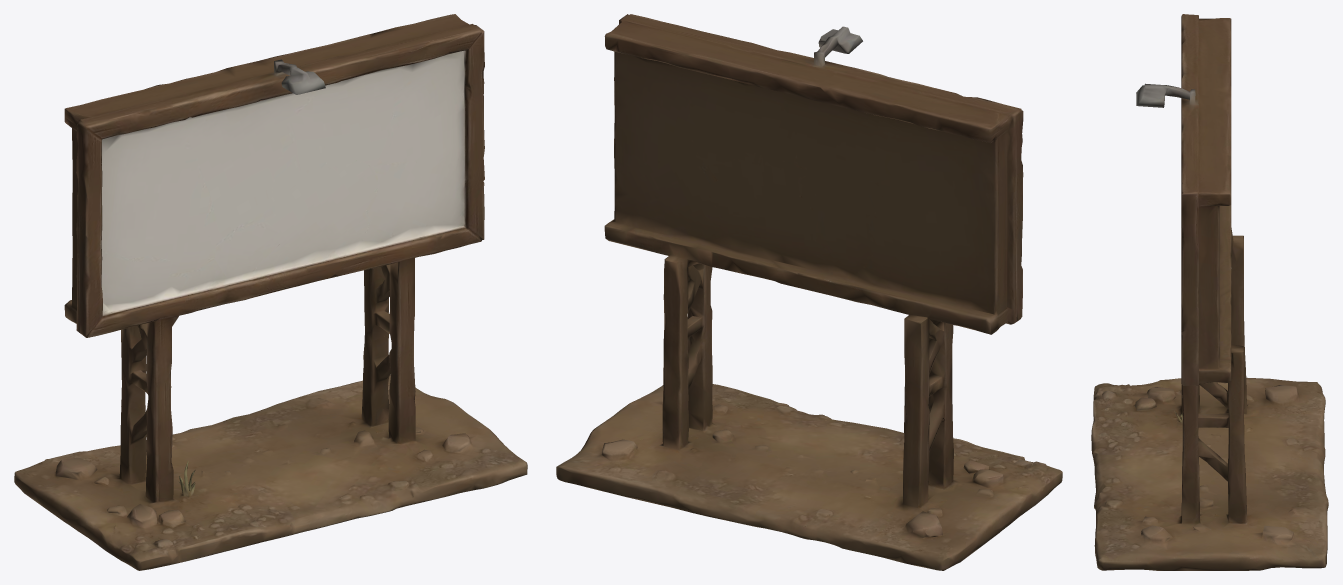
Rendered from journey_billboard.glb.
3 renders of one model, left to right at view 1: azimuth 30°, elevation 25°; view 2: azimuth 150°, elevation 25°; view 3: azimuth 270°, elevation 25°, orthographic. The views are drawn at different scales.
Parts seen in each view (by area): view 1: tripo_node_39b85c0f-203c-47d8-b34e-29ec0d181101; view 2: tripo_node_39b85c0f-203c-47d8-b34e-29ec0d181101; view 3: tripo_node_39b85c0f-203c-47d8-b34e-29ec0d181101.
Boxes of the visible parts, bbox=[...] form: tripo_node_39b85c0f-203c-47d8-b34e-29ec0d181101: bbox=[14, 14, 527, 570]; tripo_node_39b85c0f-203c-47d8-b34e-29ec0d181101: bbox=[556, 14, 1062, 570]; tripo_node_39b85c0f-203c-47d8-b34e-29ec0d181101: bbox=[1091, 14, 1328, 570].
Bounding box in the file's own units: 0.9757 × 1 × 0.5418.
1 material, 1 textured.
